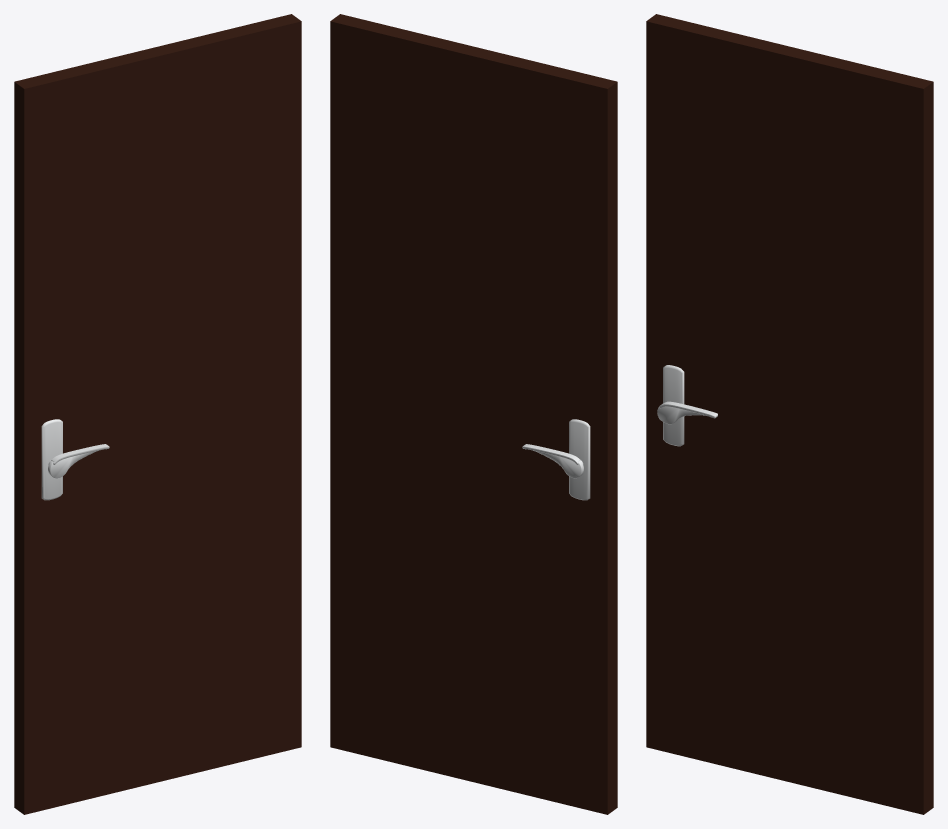
File: Door-3.fbx
3 views of the same model, side by side, from view 1: azimuth 30°, elevation 25°; view 2: azimuth 150°, elevation 25°; view 3: azimuth 330°, elevation 25° (orthographic).
Parts seen in each view (by area): view 1: Door-3; view 2: Door-3; view 3: Door-3.
Boxes of the visible parts, x1,y1,x2,y2 form: Door-3: [14, 14, 301, 814]; Door-3: [330, 14, 617, 814]; Door-3: [646, 14, 933, 814].
Bounding box in the file's own units: 0.96 × 2.4 × 0.162.
